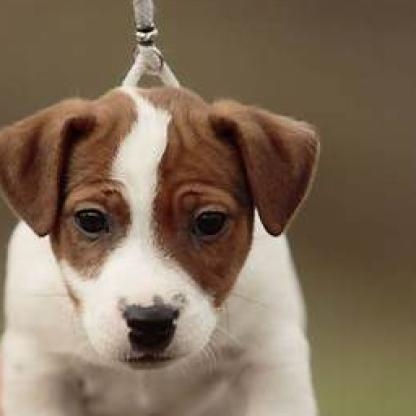dog: (0, 84, 325, 415)
